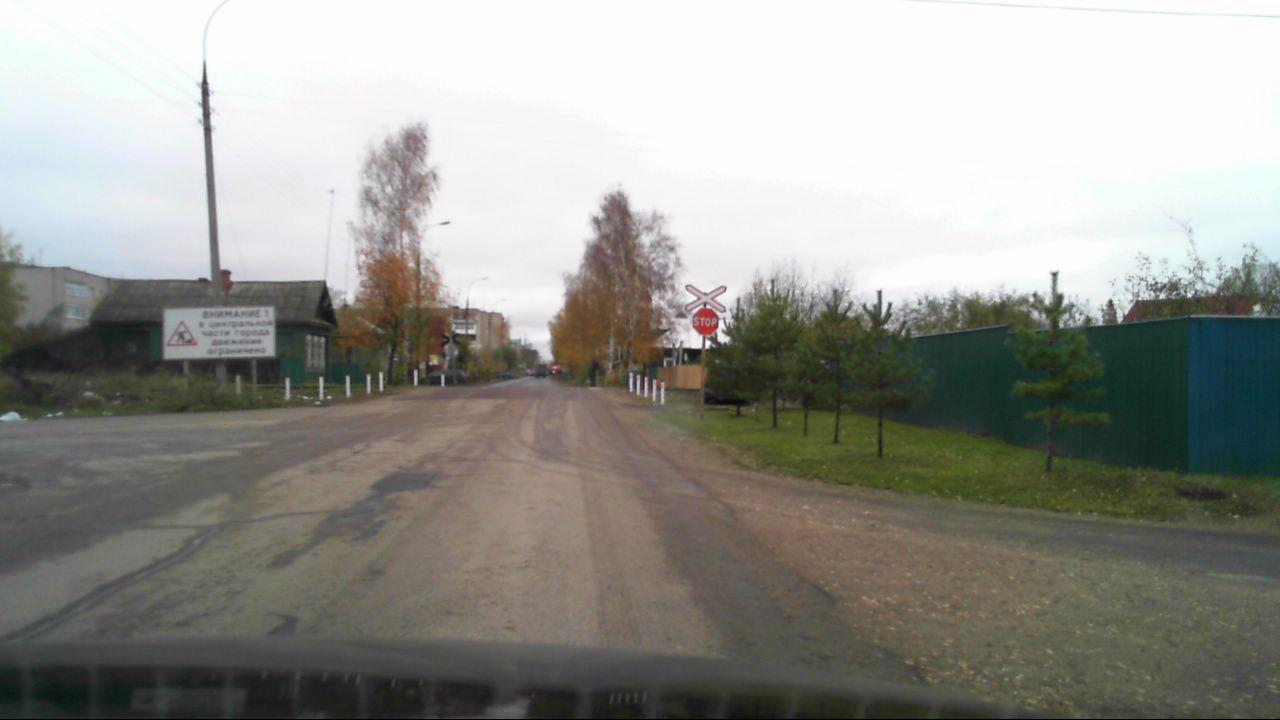1_25: (164, 321, 198, 349)
1_3_1: (684, 284, 727, 313)
2_5: (691, 307, 719, 335)
